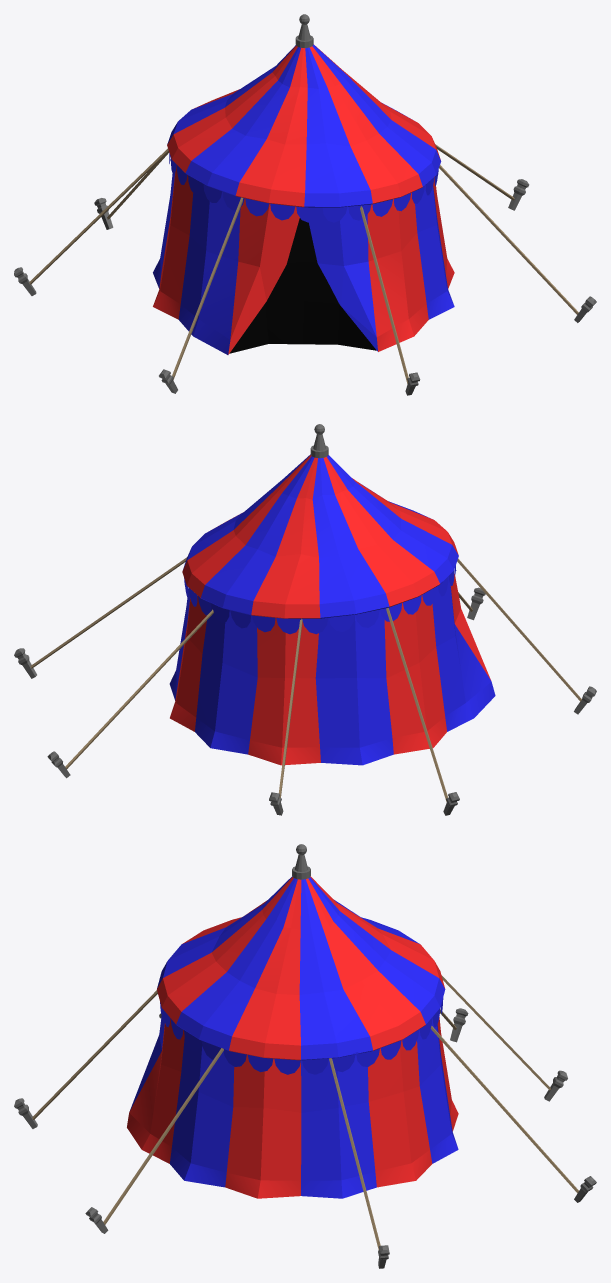
Rendered from tent_a.FBX.
3 views of the same model, one above another, from view 1: azimuth 30°, elevation 25°; view 2: azimuth 150°, elevation 25°; view 3: azimuth 270°, elevation 25° (orthographic). The views are drawn at different scales.
Visible parts, largest first — view 1: tent_a; view 2: tent_a; view 3: tent_a.
Boxes of the visible parts, x1,y1,x2,y2 form: tent_a: (14,14,596,395); tent_a: (14,424,596,815); tent_a: (14,844,596,1268).
Size of the model in its own units: 8.42 by 4.81 by 8.48.
